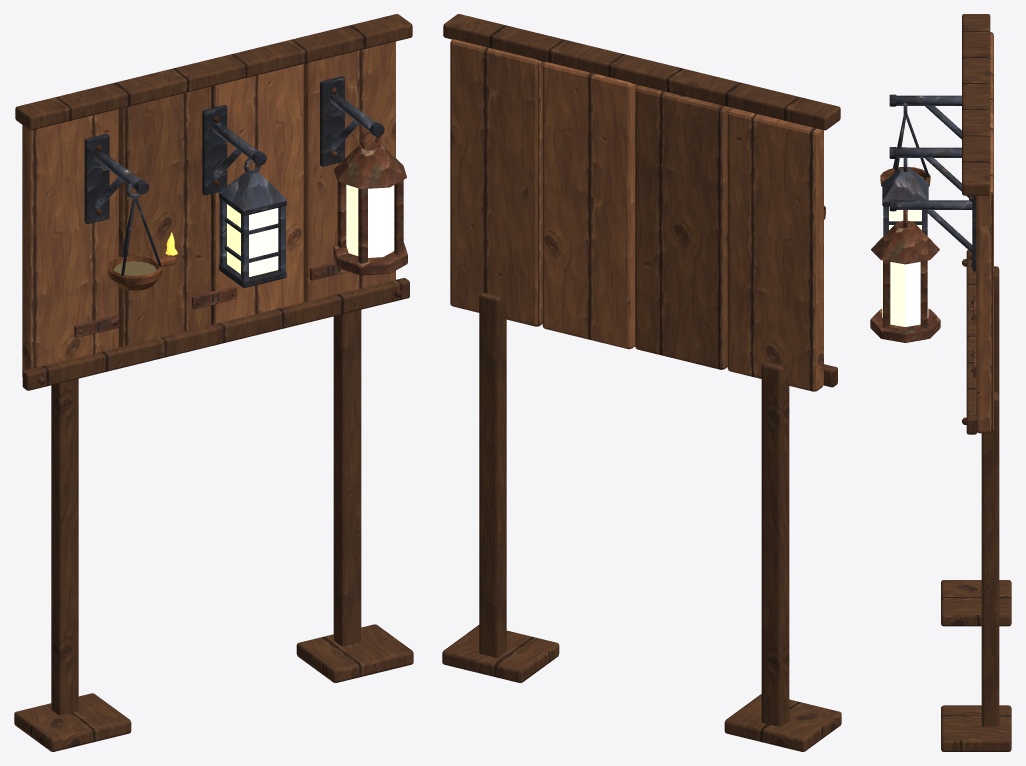
Rendered from hm_lamp_history_board.glb.
3 views of the same model, side by side, from view 1: azimuth 30°, elevation 25°; view 2: azimuth 150°, elevation 25°; view 3: azimuth 270°, elevation 25° (orthographic). The views are drawn at different scales.
Visible parts, largest first — view 1: model; view 2: model; view 3: model.
Part boxes in pixels (bbox=[...]): model: bbox=[14, 14, 413, 751]; model: bbox=[442, 14, 841, 751]; model: bbox=[870, 14, 1011, 751].
Bounding box in the file's own units: 1.14 × 1.79 × 0.3991.
Materials: 16 (9 with a texture image).
